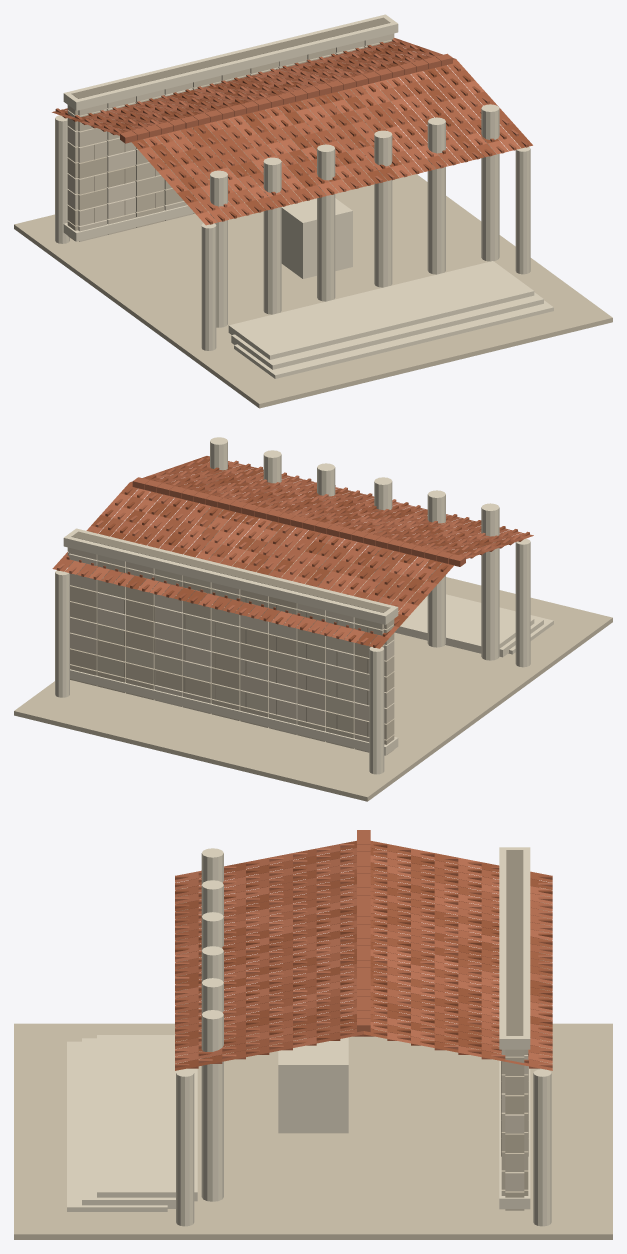
The picture shows the model from 3 angles, top to bottom: view 1: azimuth 30°, elevation 25°; view 2: azimuth 150°, elevation 25°; view 3: azimuth 270°, elevation 25°; orthographic projection. The views are drawn at different scales.
Visible parts, largest first — view 1: Bergfried – Steine, Säulen, Ziegel und Feuerstelle; view 2: Bergfried – Steine, Säulen, Ziegel und Feuerstelle; view 3: Bergfried – Steine, Säulen, Ziegel und Feuerstelle.
Part boxes in pixels (bbox=[...]): Bergfried – Steine, Säulen, Ziegel und Feuerstelle: bbox=[14, 14, 612, 408]; Bergfried – Steine, Säulen, Ziegel und Feuerstelle: bbox=[14, 437, 612, 801]; Bergfried – Steine, Säulen, Ziegel und Feuerstelle: bbox=[14, 830, 612, 1239].
Bounding box in the file's own units: 990 × 455 × 1190.
